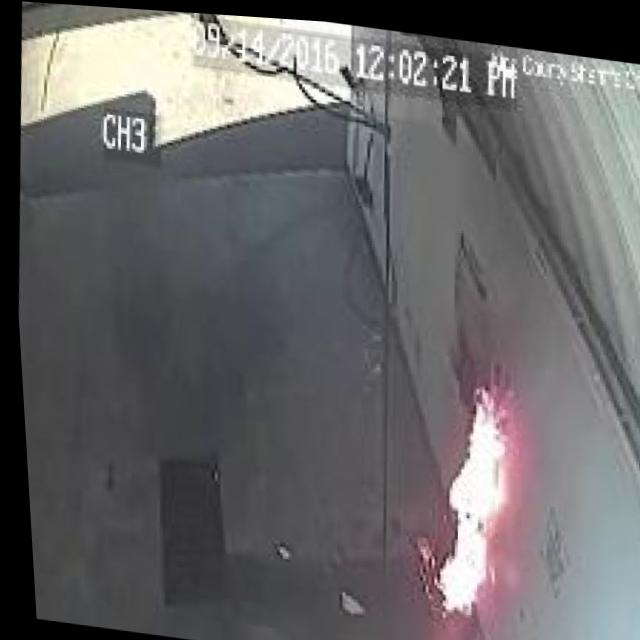fire: (411, 348, 533, 627)
